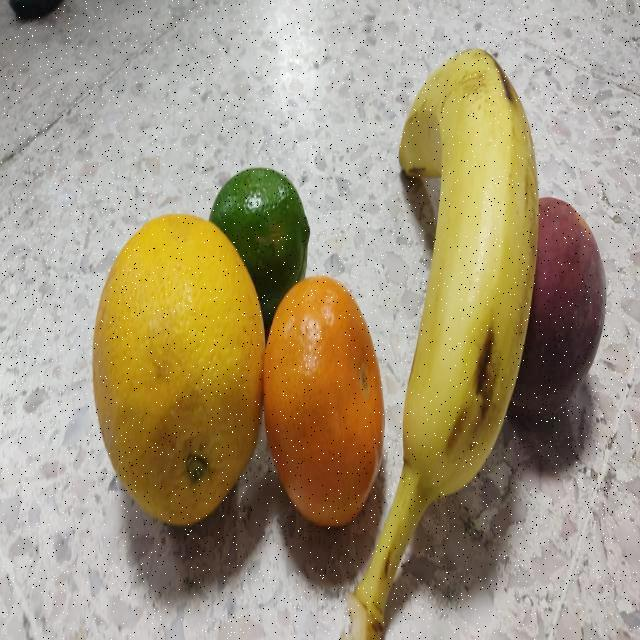Jeruk: (90, 210, 266, 528)
Jeruk Mandarin: (262, 267, 386, 534)
Lemon: (208, 165, 310, 322)
Persik: (492, 198, 608, 420)
Pisang: (338, 47, 539, 640)
